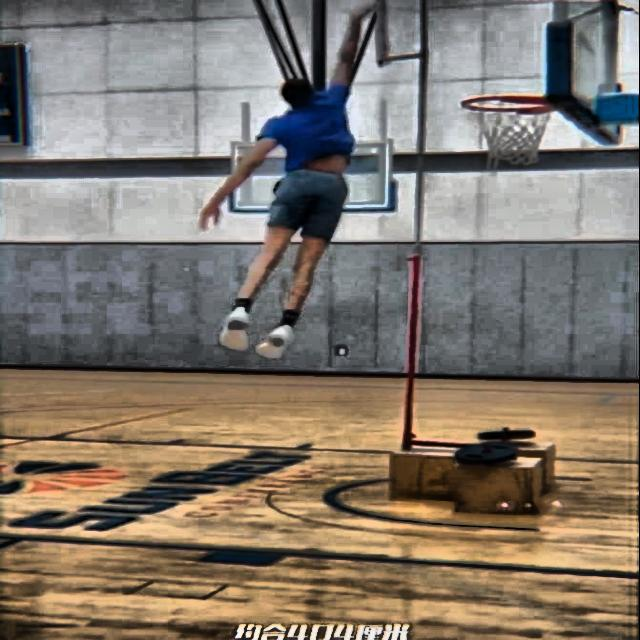rim: (460, 92, 556, 165)
